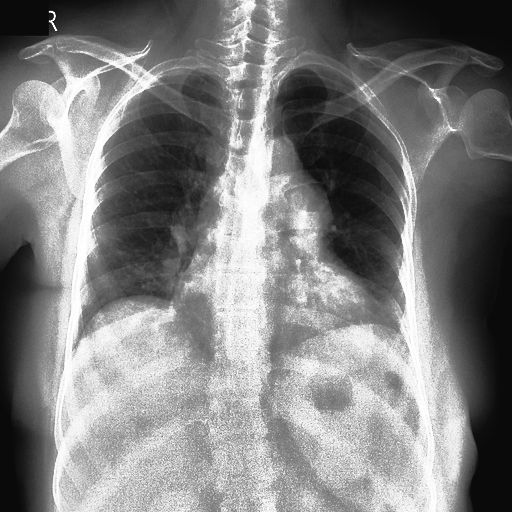Consolidation: (253, 135, 298, 166)
Nodule/Mass: (171, 280, 374, 342)
Other lesion: (290, 180, 336, 254)
